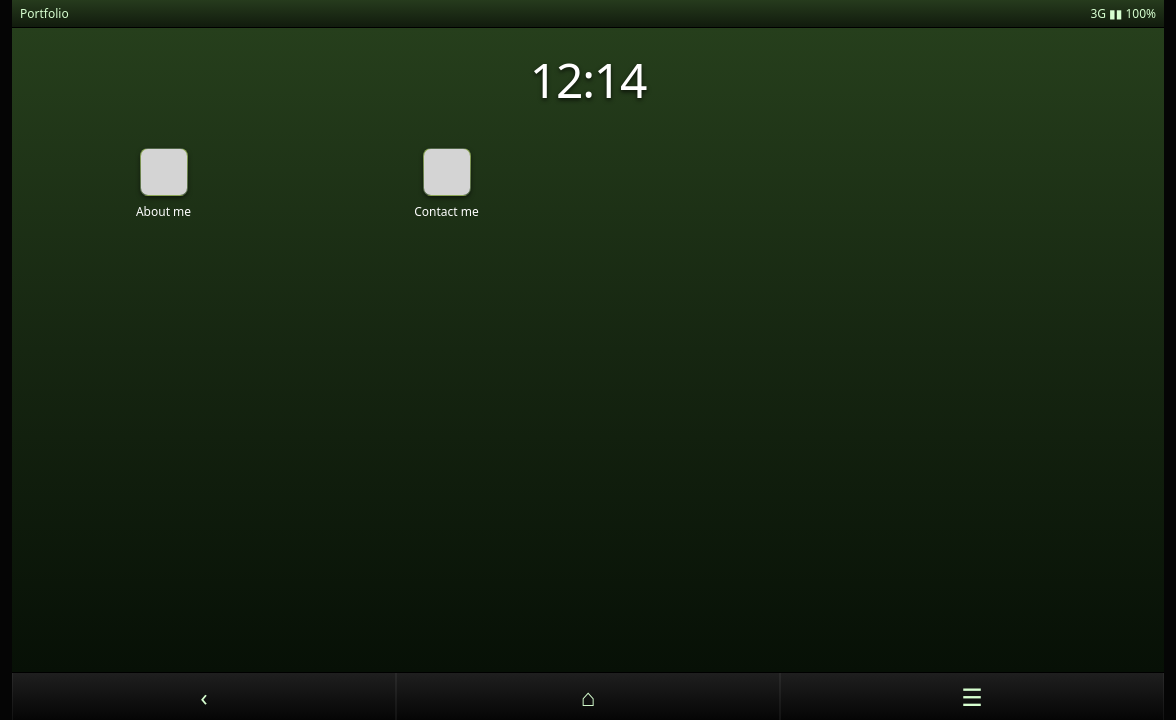
Test: MobileHome › toggles the apps menu and launches an app from it
Click the button named "Menu": point(972, 696) [780, 673, 1164, 719]
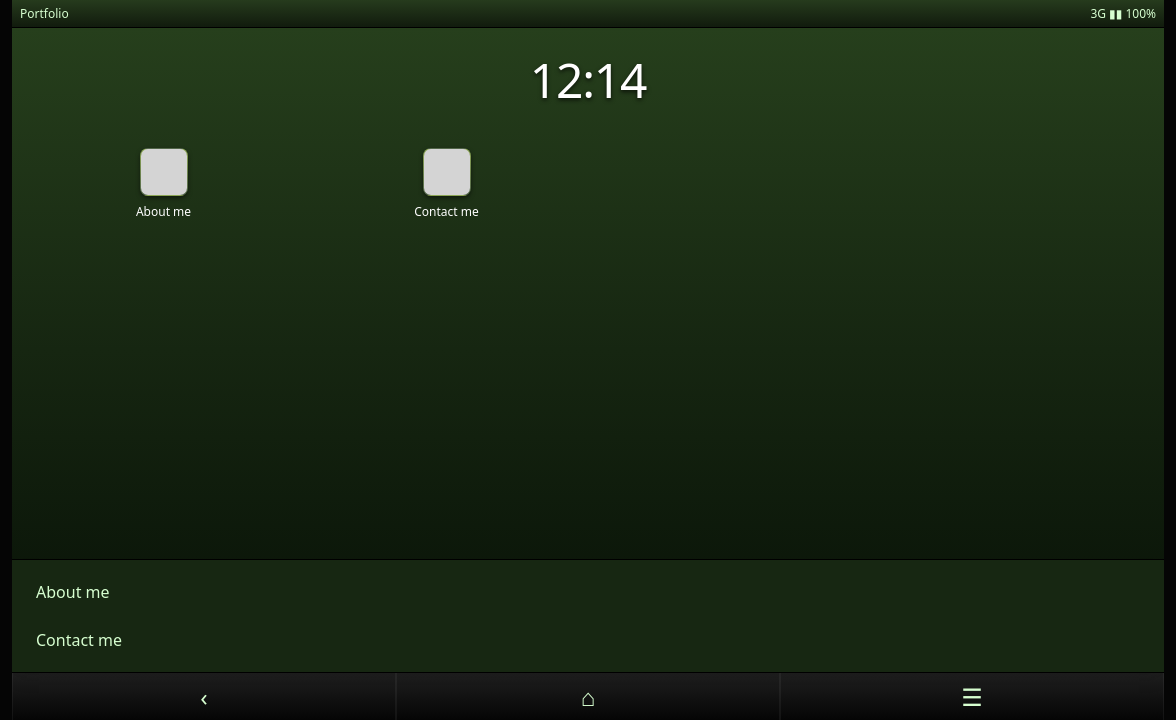
Result: the navigation bar named "Mobile apps" is shown at [12, 559, 1164, 672]
Click the button named "Menu": point(972, 696) [780, 673, 1164, 719]
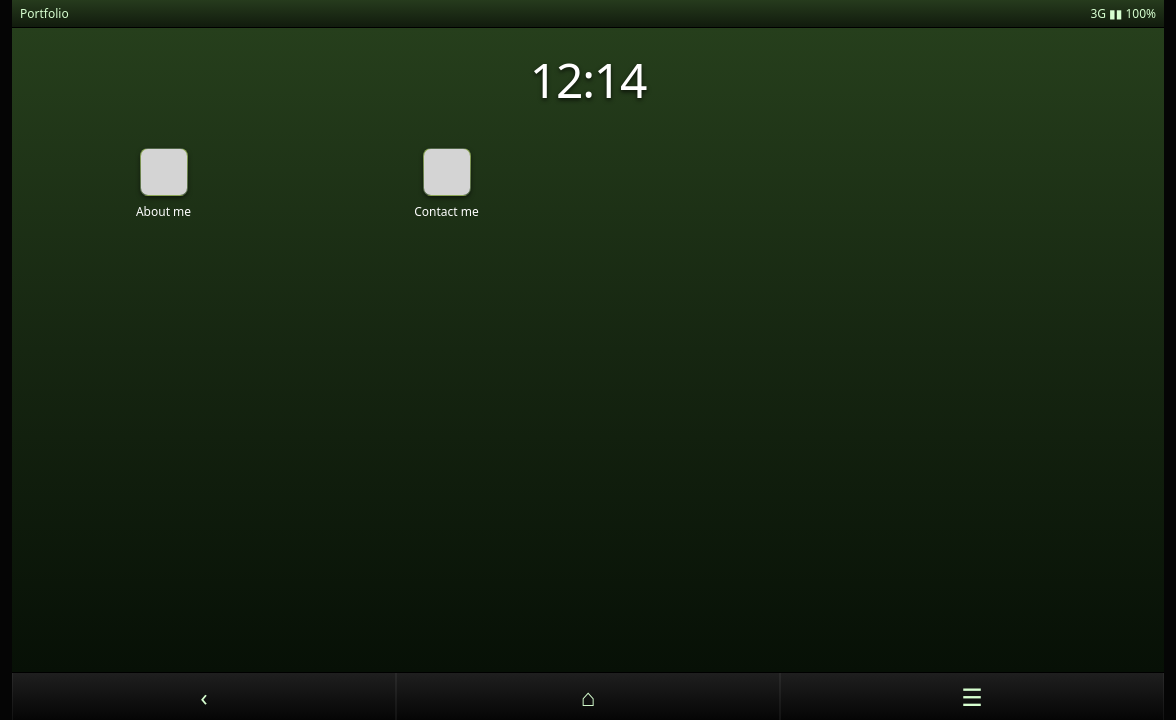
Click the button named "Menu": point(972, 696) [780, 673, 1164, 719]
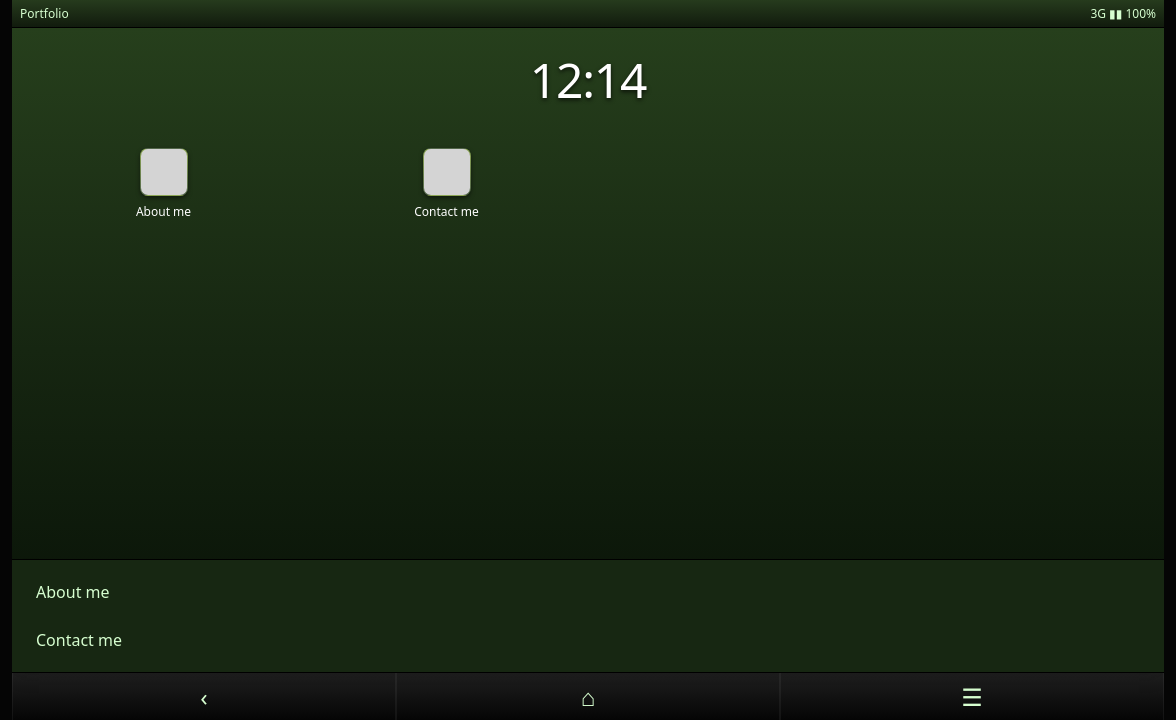
Click the 2nd button "About me": point(73, 592) [20, 568, 1156, 616]
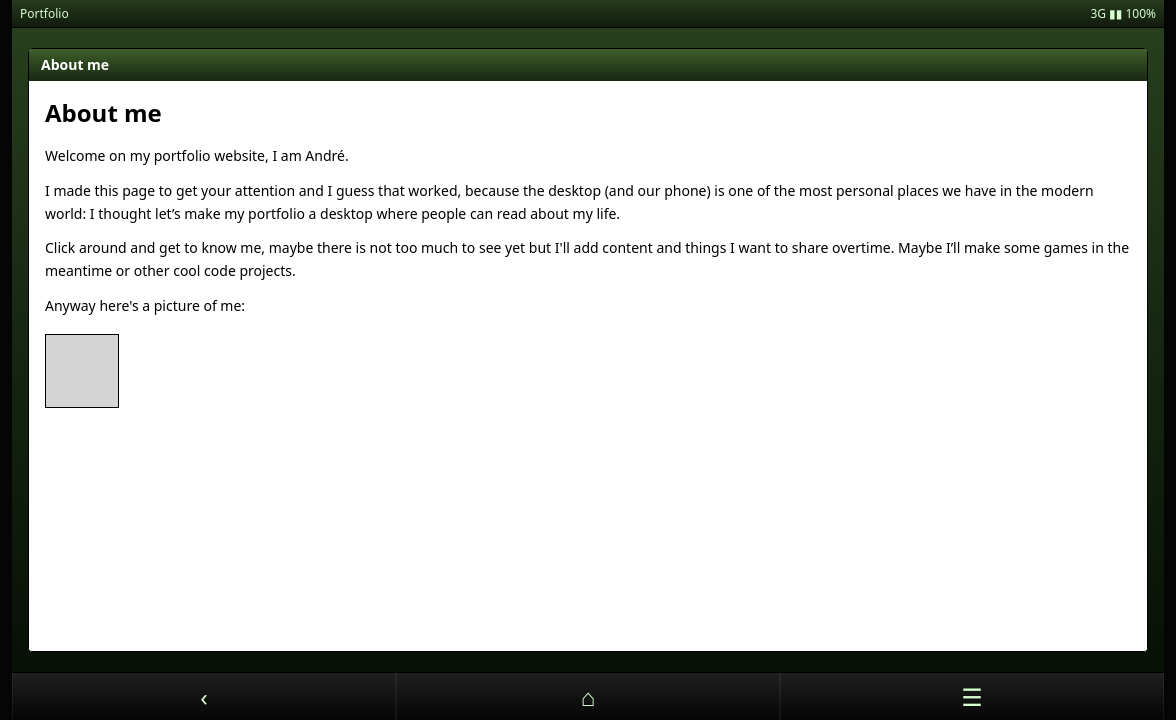
Result: the element named "About me mobile app" is shown
